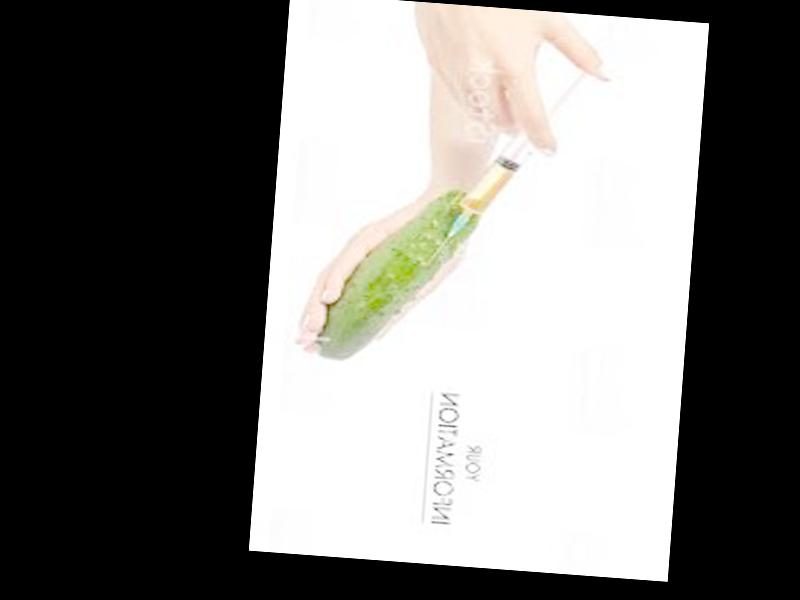Cucumber: (318, 182, 485, 368)
